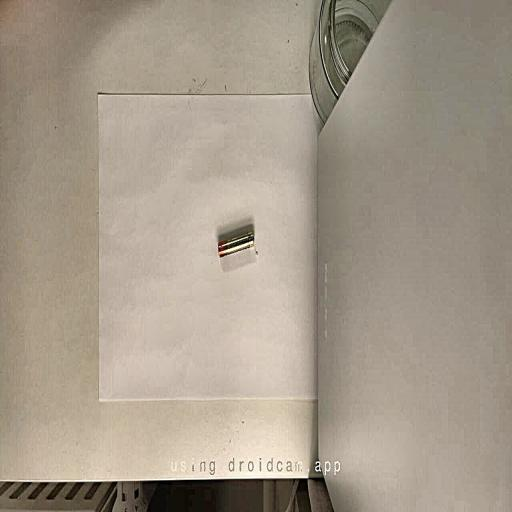PanasonicAAA: (218, 228, 254, 257)
